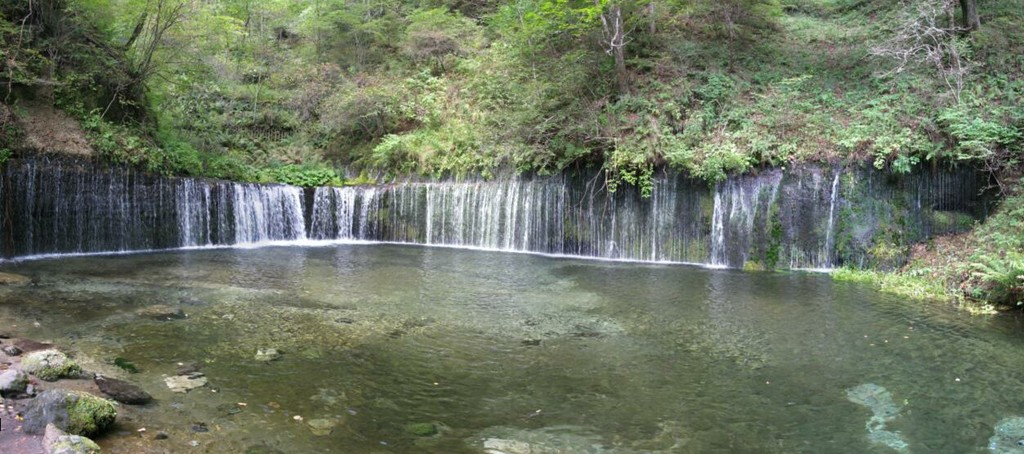Tree: (0, 0, 1024, 105)
